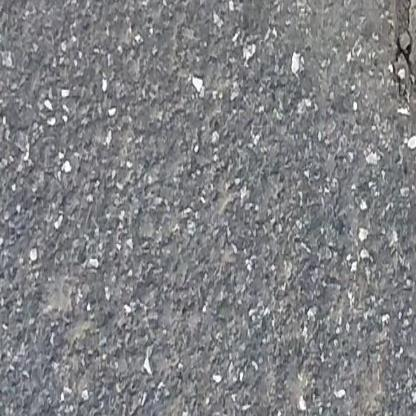Cracks: (384, 0, 416, 176)
